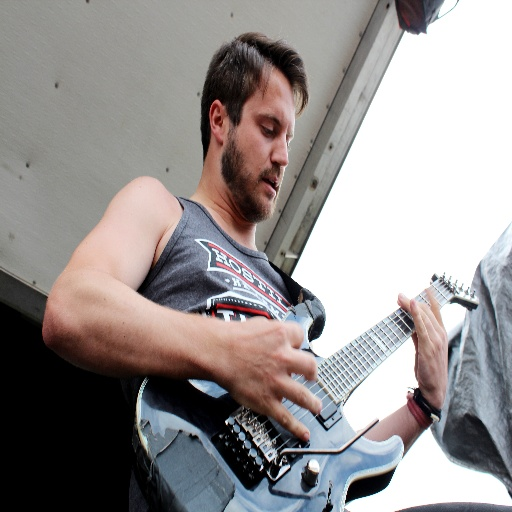hand: (211, 310, 320, 427), (397, 282, 449, 407)
